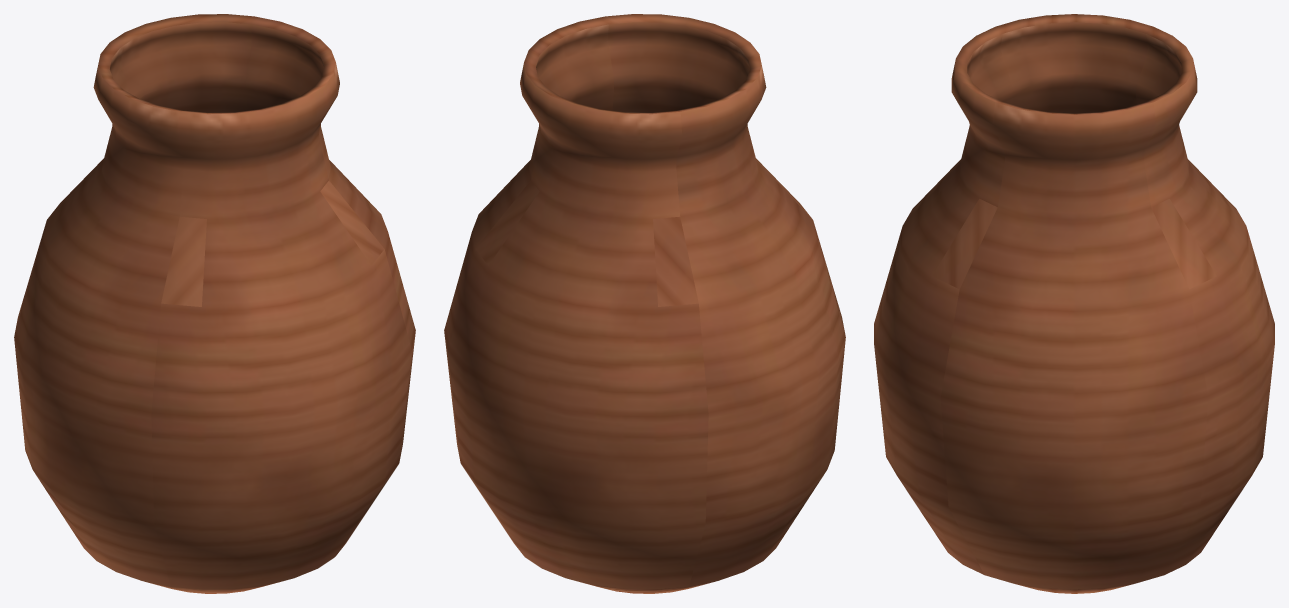
Rendered from p_pot.glb.
3 views of the same model, side by side, from view 1: azimuth 30°, elevation 25°; view 2: azimuth 150°, elevation 25°; view 3: azimuth 270°, elevation 25° (orthographic).
Parts seen in each view (by area): view 1: pot; view 2: pot; view 3: pot.
Boxes of the visible parts, <box> form: pot: <box>14,14,415,593</box>; pot: <box>444,14,845,593</box>; pot: <box>874,14,1274,593</box>.
Size of the model in its own units: 0.5143 by 0.7 by 0.5106.
Materials: 1 (1 with a texture image).
